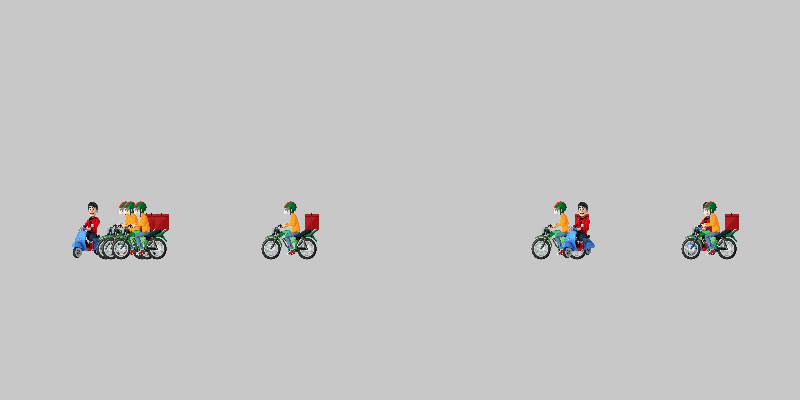helmet: (95, 200, 155, 260), (100, 200, 160, 260), (110, 200, 170, 260), (260, 200, 320, 260), (530, 200, 590, 260), (680, 200, 740, 260)
no_helmet: (60, 200, 120, 260), (550, 200, 610, 260), (675, 200, 735, 260)
